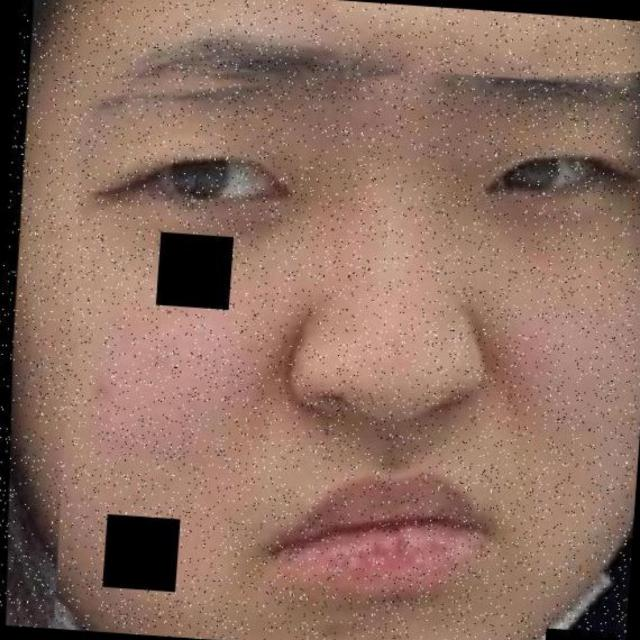Angry: (107, 66, 640, 612)
